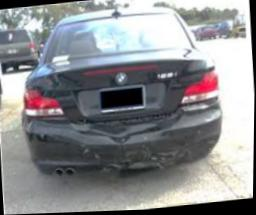Bumper: (33, 99, 224, 176)
